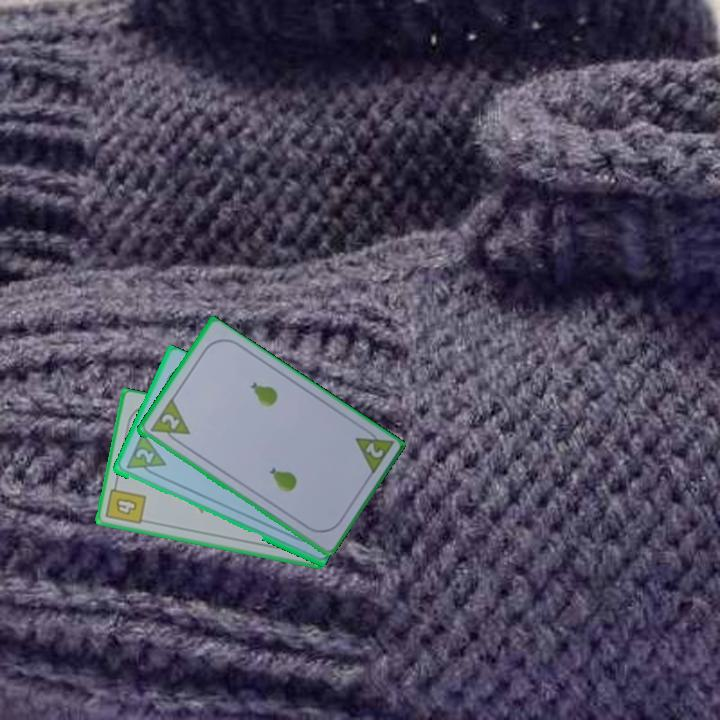2p: (146, 396, 192, 448), (132, 445, 157, 467), (361, 439, 386, 461)
4b: (102, 478, 149, 527)
